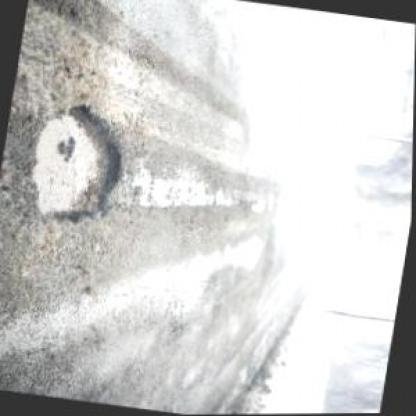pothole: (22, 96, 139, 233)
